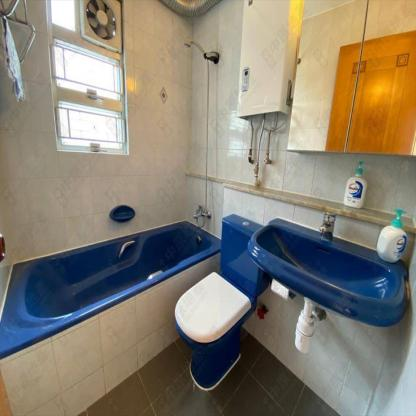Bathtub: (1, 216, 220, 354)
Exhaust Fan: (79, 0, 123, 56), (79, 0, 122, 54)
Faucet: (318, 207, 341, 234)
Toilet: (175, 212, 272, 390)
Toilet Sink: (250, 218, 406, 325)
Water Heater: (238, 0, 300, 117)
